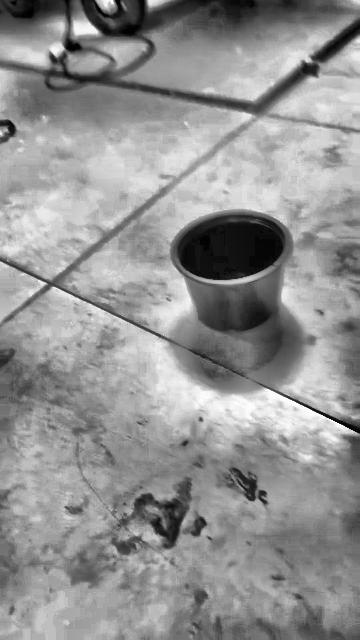pot: (171, 211, 292, 332)
